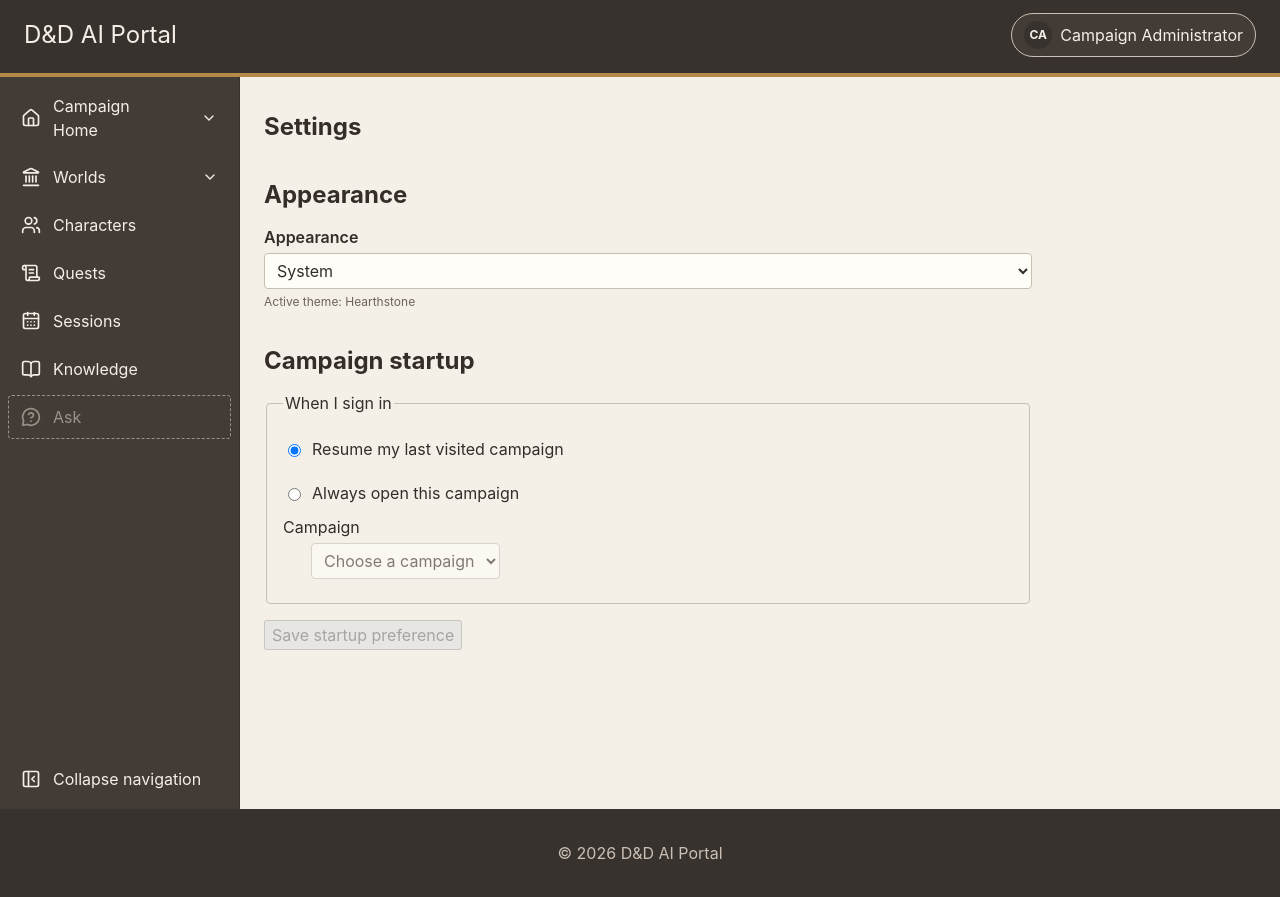
saved startup preference reaches the shared session › opens the saved fixed campaign from /home in the same session
Expected: the heading "Settings" is shown, x1=264 y1=112 x2=361 y2=141
Click the radio button labelled "Always open this campaign": (294, 494) x1=288 y1=488 x2=301 y2=501
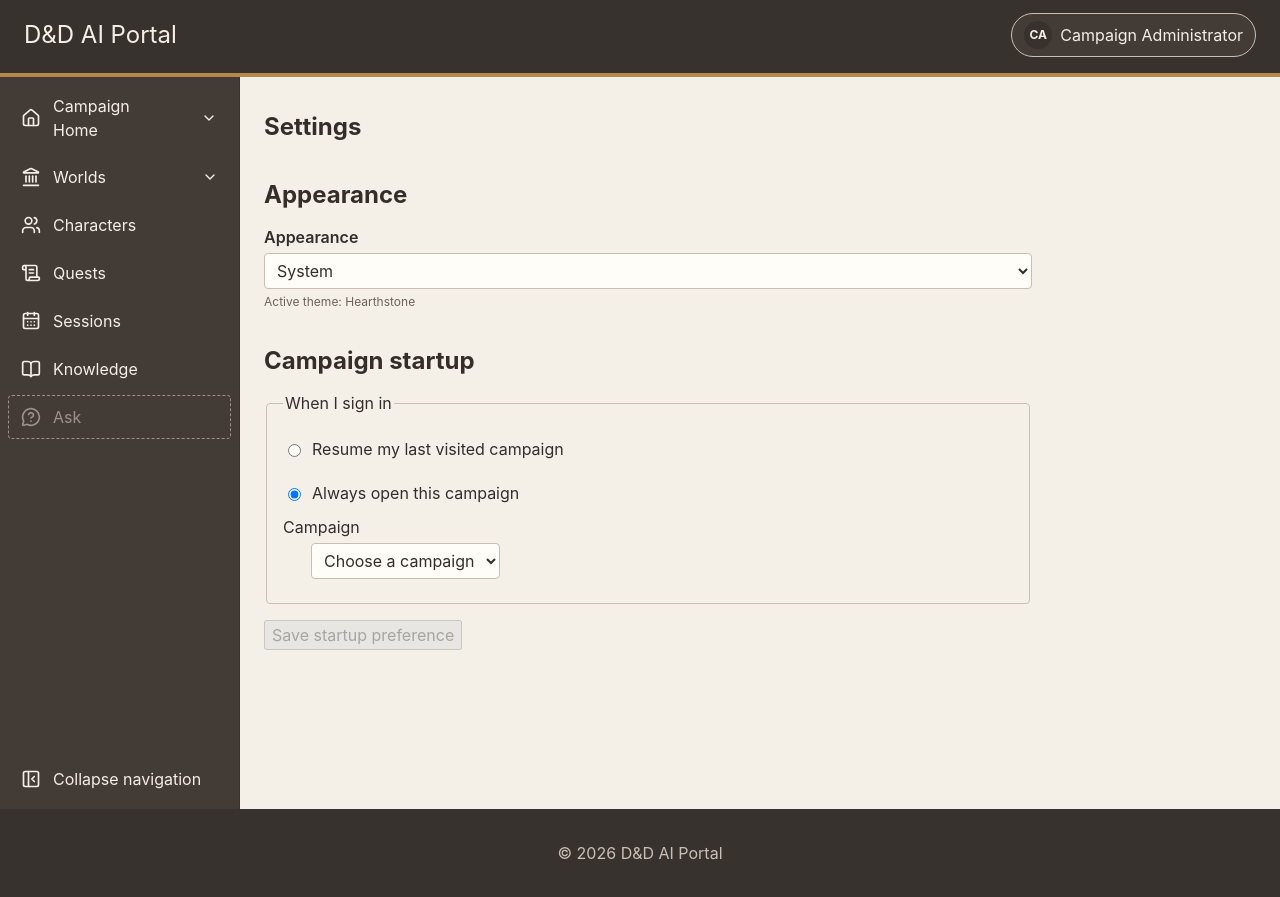
Select "Beta" in the dropdown labelled "Campaign": (406, 561) x1=311 y1=543 x2=500 y2=579
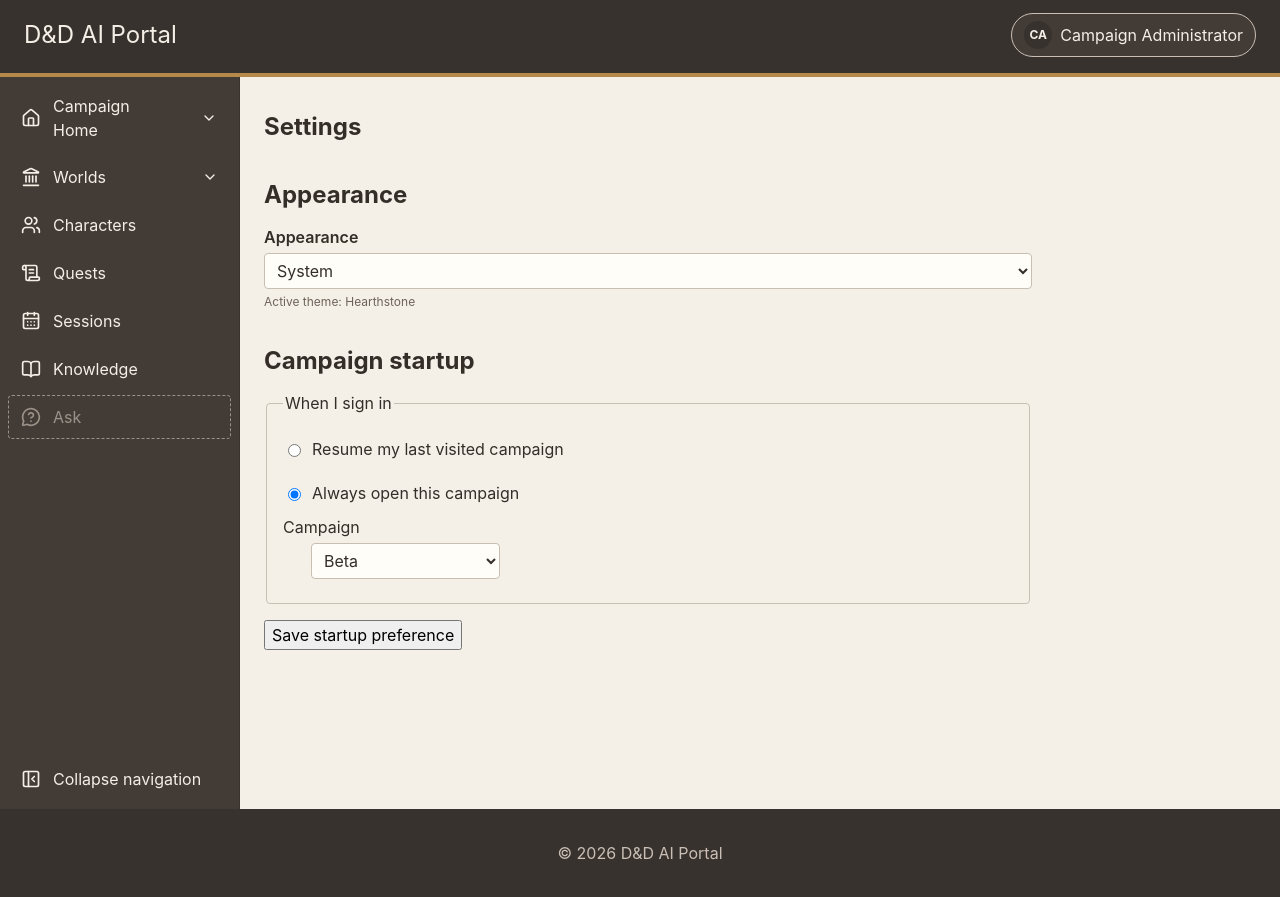
Click the button "Save startup preference": (363, 635) x1=264 y1=620 x2=462 y2=650
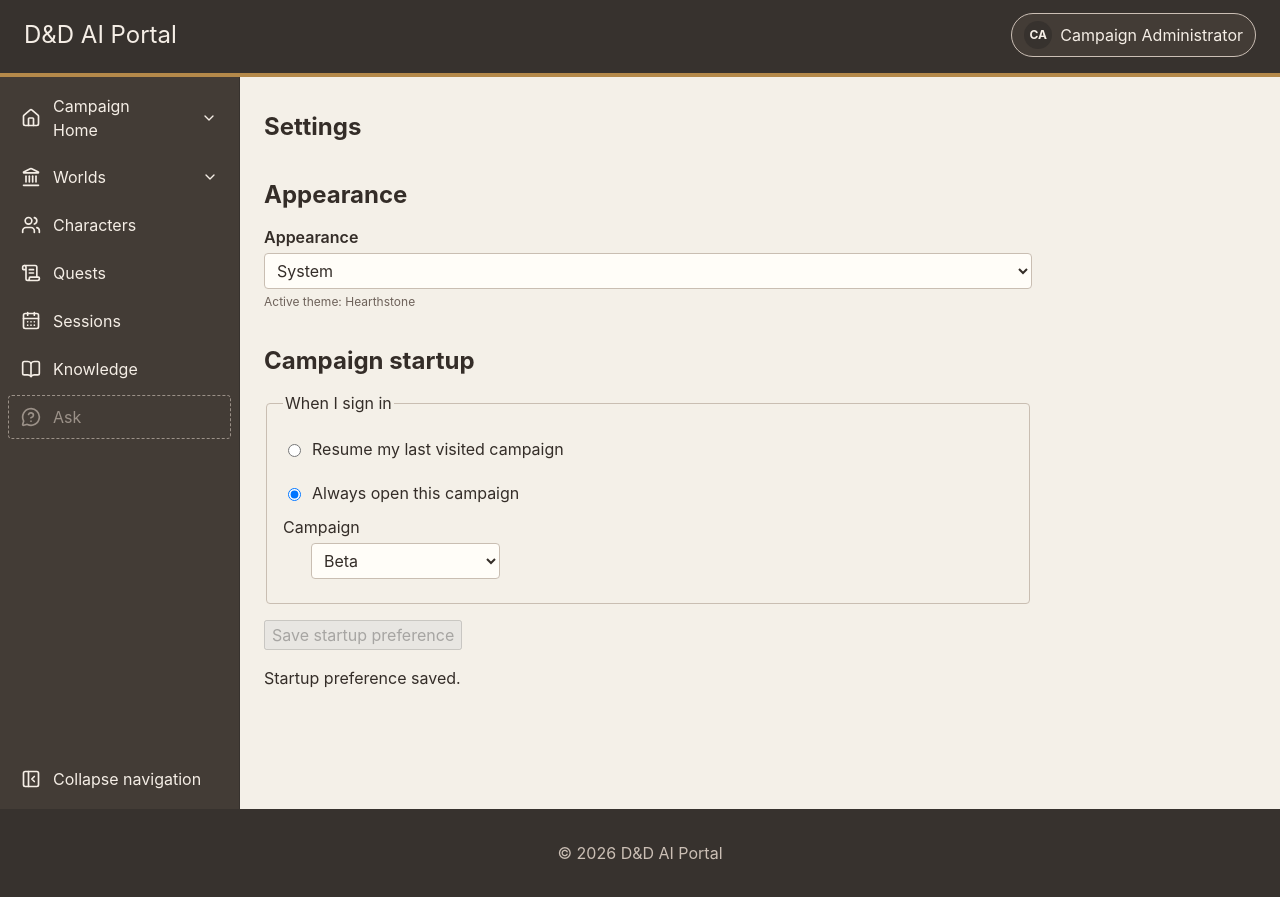
Now the message reads "Startup preference saved.", box x1=264 y1=668 x2=461 y2=688
Click the link "D&D AI Portal": (100, 35) x1=24 y1=17 x2=177 y2=53
(page scrolled)
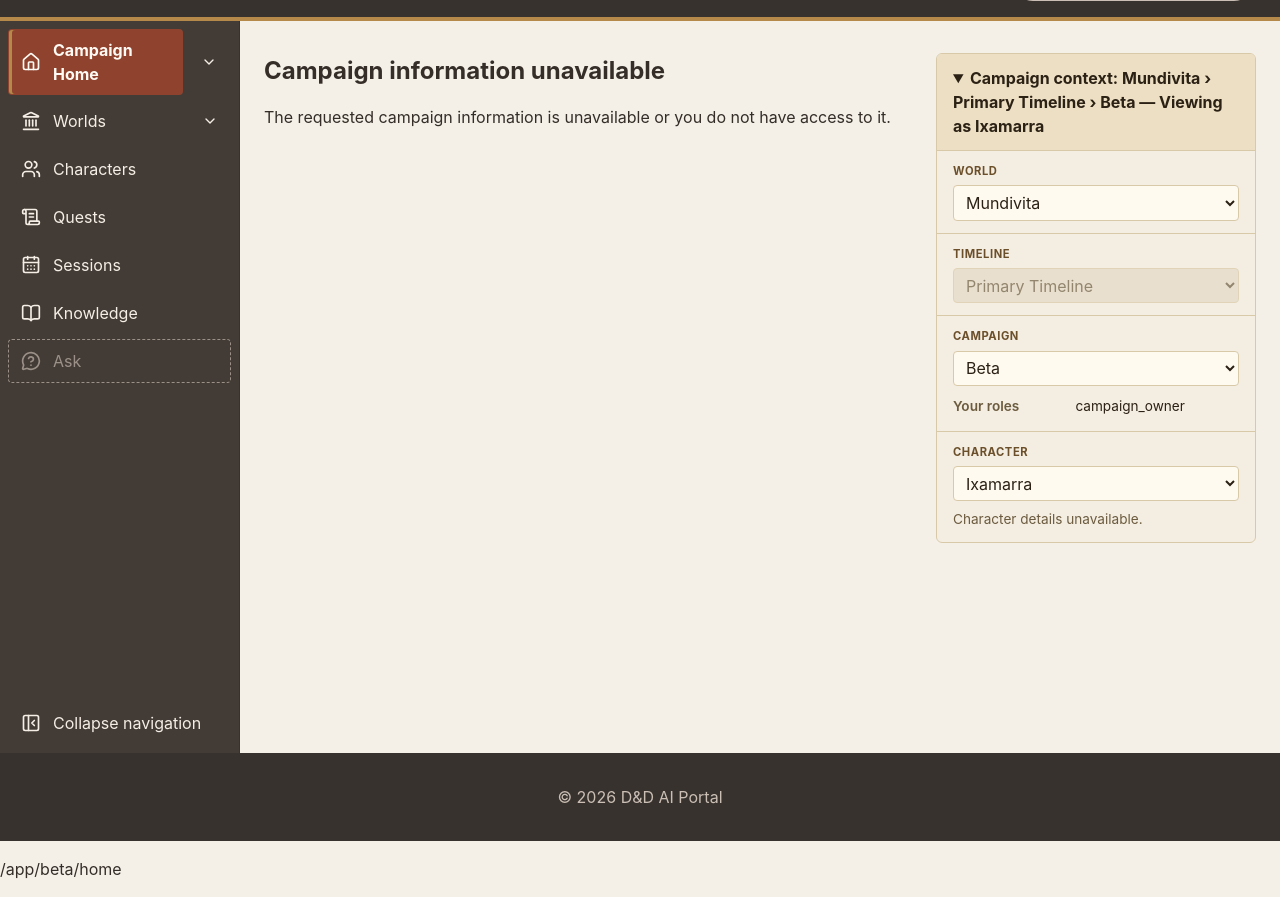
Now the text with test id "location" reads "/app/beta/home", box x1=0 y1=859 x2=122 y2=879
